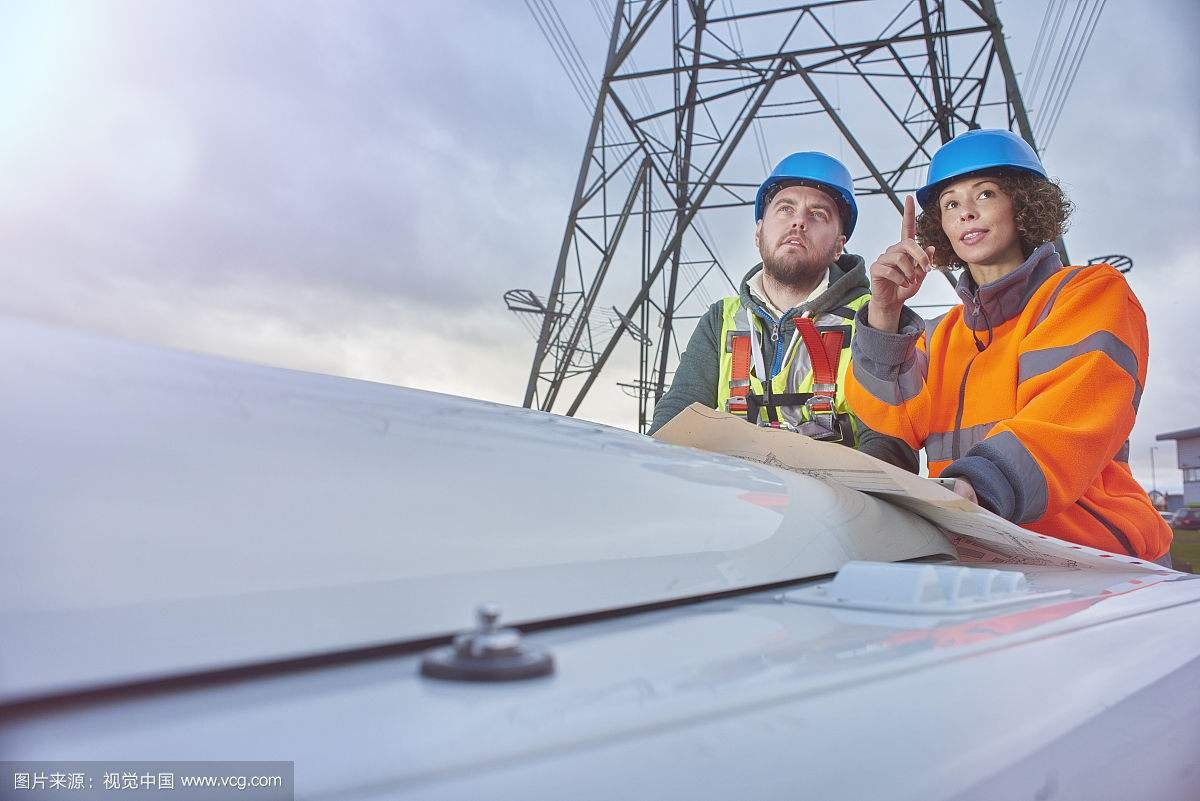blue: (911, 128, 1055, 275), (748, 147, 859, 280)
